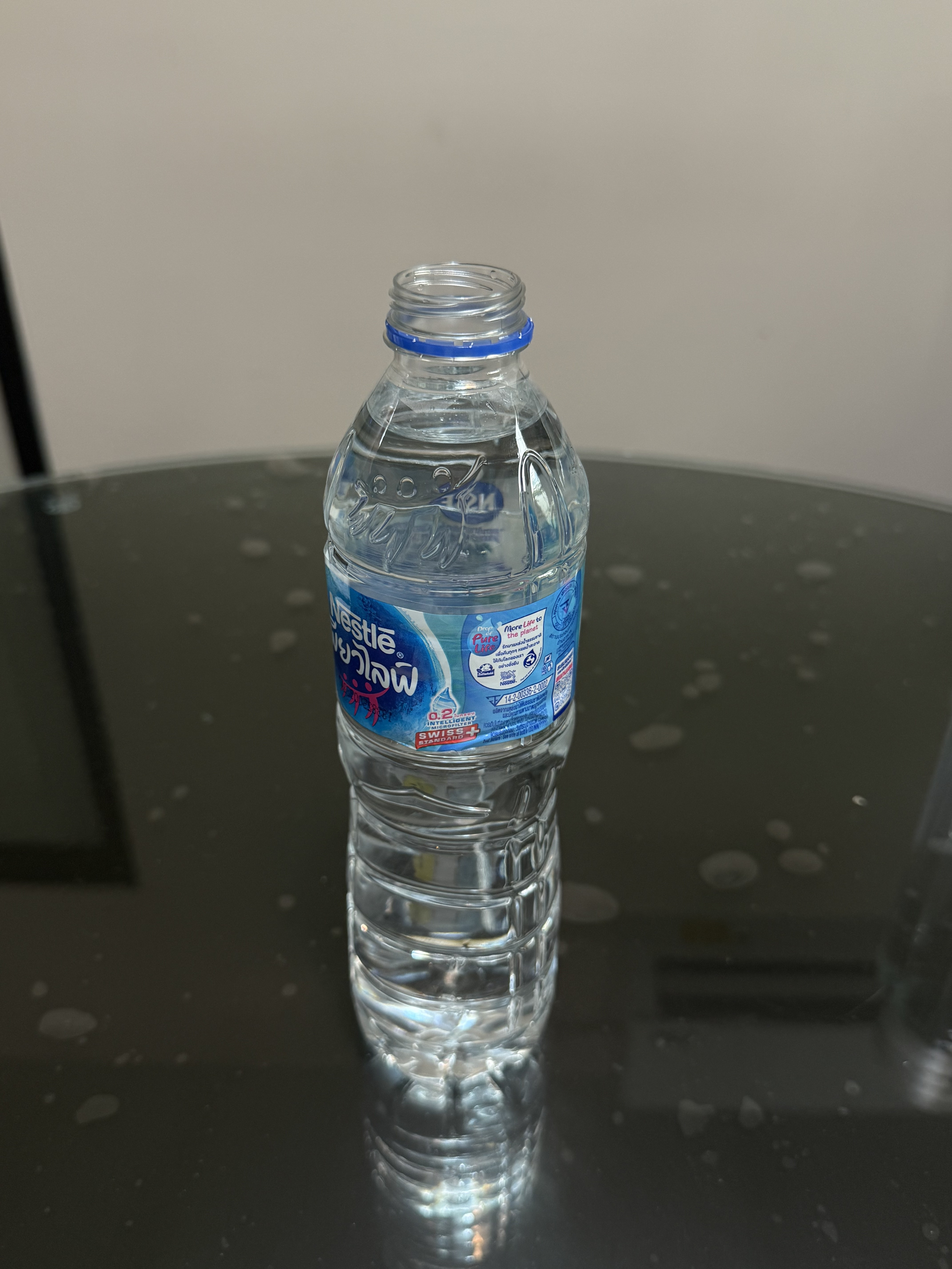no_cap: (382, 259, 537, 364)
